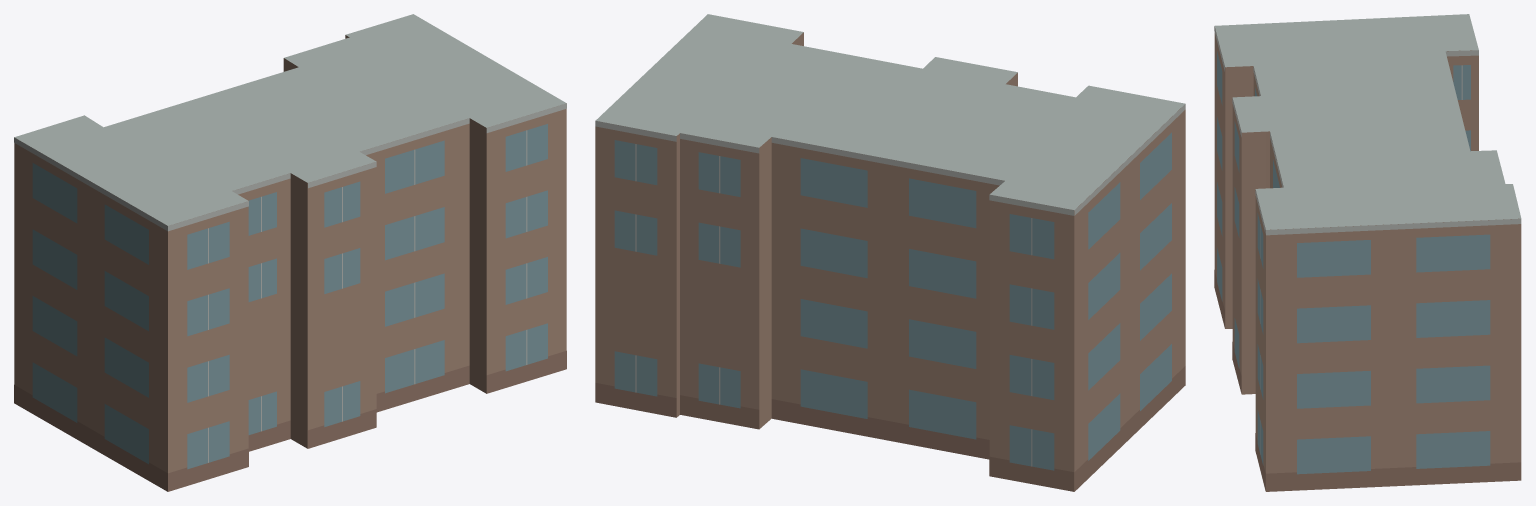
Rendered from survey-upis-32587765.glb.
3 renders of one model, left to right at view 1: azimuth 30°, elevation 25°; view 2: azimuth 150°, elevation 25°; view 3: azimuth 270°, elevation 25°, orthographic. The views are drawn at different scales.
Visible parts, largest first — view 1: survey-upis-32587765.tmp; view 2: survey-upis-32587765.tmp; view 3: survey-upis-32587765.tmp.
Part boxes in pixels (x1,y1,x2,y2): survey-upis-32587765.tmp: [14, 14, 566, 491]; survey-upis-32587765.tmp: [595, 14, 1185, 491]; survey-upis-32587765.tmp: [1214, 14, 1521, 491].
Bounding box in the file's own units: 21.05 × 11.9 × 12.65.
